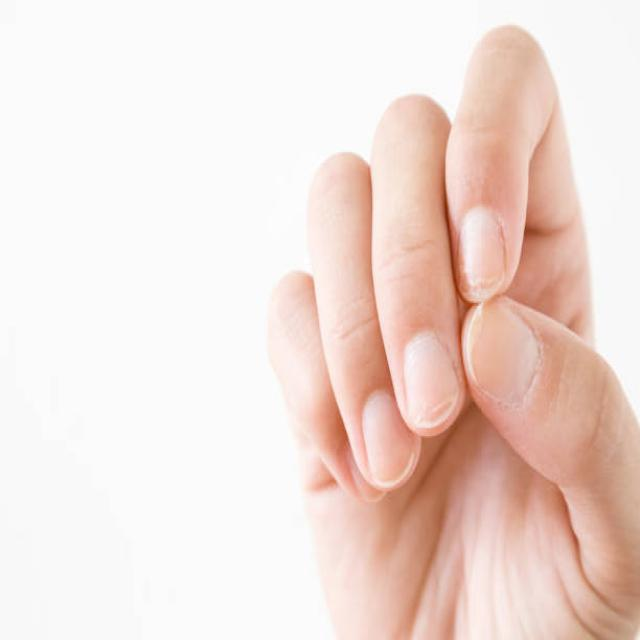Nail: (466, 300, 539, 402), (401, 332, 460, 431), (362, 390, 416, 489), (459, 206, 505, 303), (346, 451, 383, 504)
